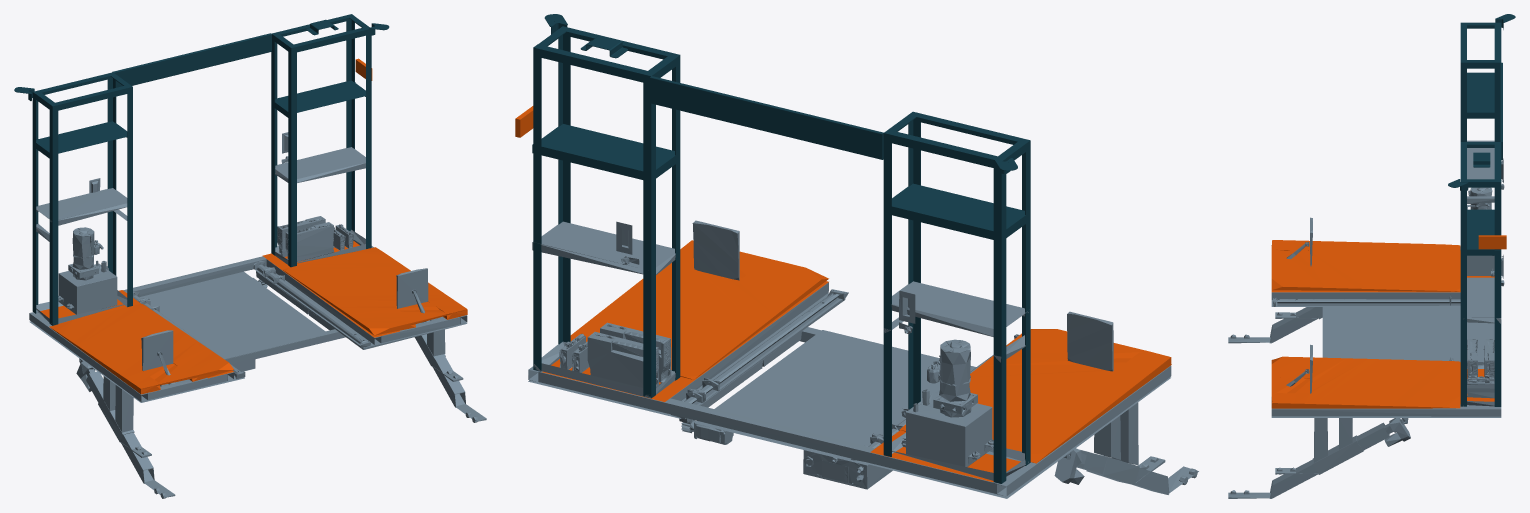
File: body.dae
3 views of the same model, side by side, from view 1: azimuth 30°, elevation 25°; view 2: azimuth 150°, elevation 25°; view 3: azimuth 270°, elevation 25° (orthographic). The views are drawn at different scales.
Visible parts, largest first — view 1: node; view 2: node; view 3: node.
Boxes of the visible parts, x1=… form: node: x1=14, y1=14, x2=486, y2=498; node: x1=515, y1=14, x2=1198, y2=498; node: x1=1228, y1=14, x2=1515, y2=498.
Size of the model in its own units: 1.92 by 1.34 by 1.67.
